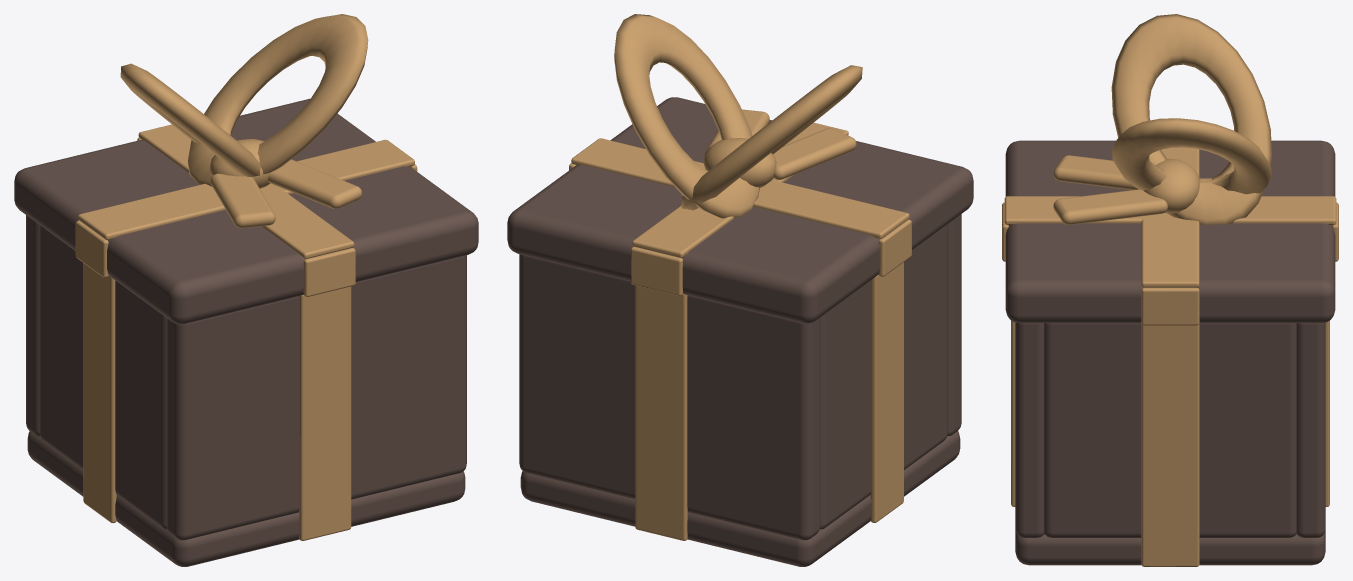
The model's file is gift-rose-3.glb.
The picture shows the model from 3 angles, left to right: view 1: azimuth 30°, elevation 25°; view 2: azimuth 150°, elevation 25°; view 3: azimuth 270°, elevation 25°; orthographic projection.
Parts seen in each view (by area): view 1: Gift_Body, Gift_Lid, Gift_Bow_Loop_R, Gift_Bow, Gift_Bow_Loop_L; view 2: Gift_Body, Gift_Lid, Gift_Bow_Loop_R, Gift_Bow_Loop_L, Gift_Bow; view 3: Gift_Body, Gift_Lid, Gift_Bow_Loop_L, Gift_Bow_Loop_R, Gift_Bow.
Boxes of the visible parts, x1,y1,x2,y2 form: Gift_Body: [26, 215, 466, 566]; Gift_Lid: [14, 98, 478, 324]; Gift_Bow_Loop_R: [187, 14, 368, 186]; Gift_Bow: [209, 139, 362, 228]; Gift_Bow_Loop_L: [120, 63, 260, 176]; Gift_Body: [519, 214, 961, 566]; Gift_Lid: [507, 97, 973, 323]; Gift_Bow_Loop_R: [614, 14, 759, 218]; Gift_Bow_Loop_L: [681, 65, 862, 210]; Gift_Bow: [703, 109, 856, 188]; Gift_Body: [1011, 320, 1329, 566]; Gift_Lid: [1002, 140, 1338, 325]; Gift_Bow_Loop_L: [1111, 14, 1271, 224]; Gift_Bow_Loop_R: [1111, 118, 1271, 194]; Gift_Bow: [1053, 155, 1200, 224].
Bounding box in the file's own units: 0.928 × 1.23 × 0.868.
